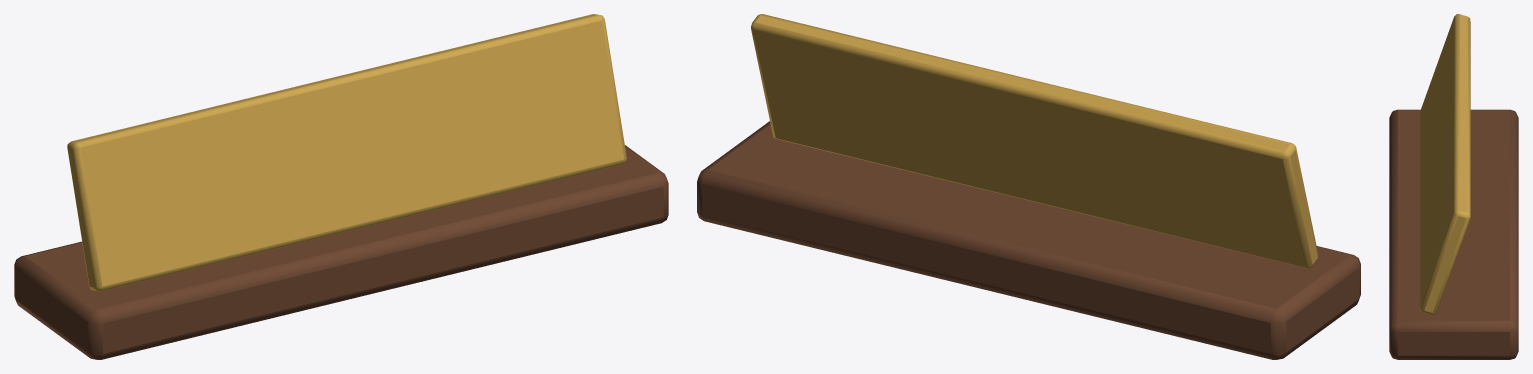
The model's file is name_plate.fbx.
3 views of the same model, side by side, from view 1: azimuth 30°, elevation 25°; view 2: azimuth 150°, elevation 25°; view 3: azimuth 270°, elevation 25° (orthographic). The views are drawn at different scales.
Visible parts, largest first — view 1: NamePlate; view 2: NamePlate; view 3: NamePlate.
Boxes of the visible parts, x1,y1,x2,y2 form: NamePlate: [14, 14, 668, 359]; NamePlate: [697, 14, 1360, 359]; NamePlate: [1389, 14, 1518, 359].
Bounding box in the file's own units: 0.24 × 0.0728 × 0.06.
